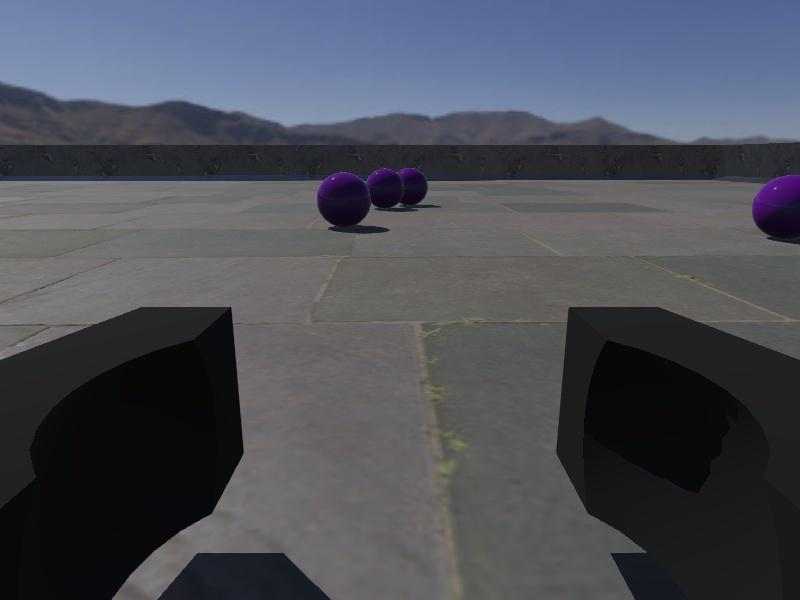violet ball: (318, 173, 371, 225)
